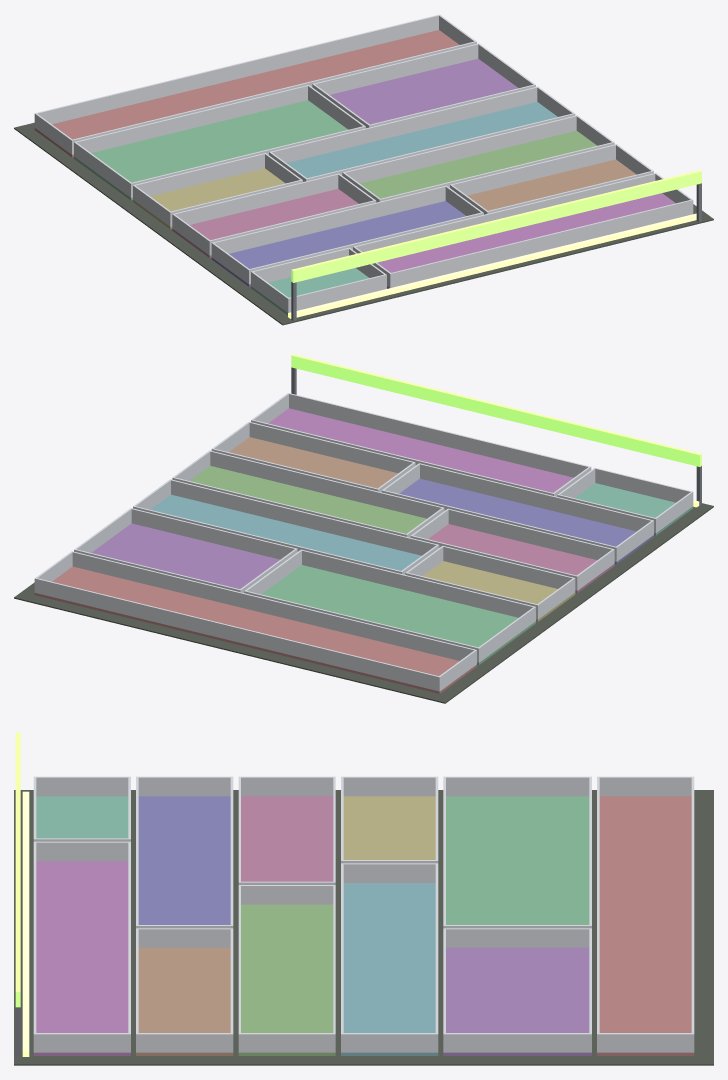
File: hall-demolition.glb
3 views of the same model, one above another, from view 1: azimuth 30°, elevation 25°; view 2: azimuth 150°, elevation 25°; view 3: azimuth 270°, elevation 25° (orthographic). The views are drawn at different scales.
Parts seen in each view (by area): view 1: Demolition Workers; view 2: Demolition Workers; view 3: Demolition Workers.
Boxes of the visible parts, x1,y1,x2,y2 form: Demolition Workers: [14, 14, 713, 325]; Demolition Workers: [14, 354, 713, 703]; Demolition Workers: [14, 732, 713, 1065].
Bounding box in the file's own units: 38 × 4.3 × 41.
